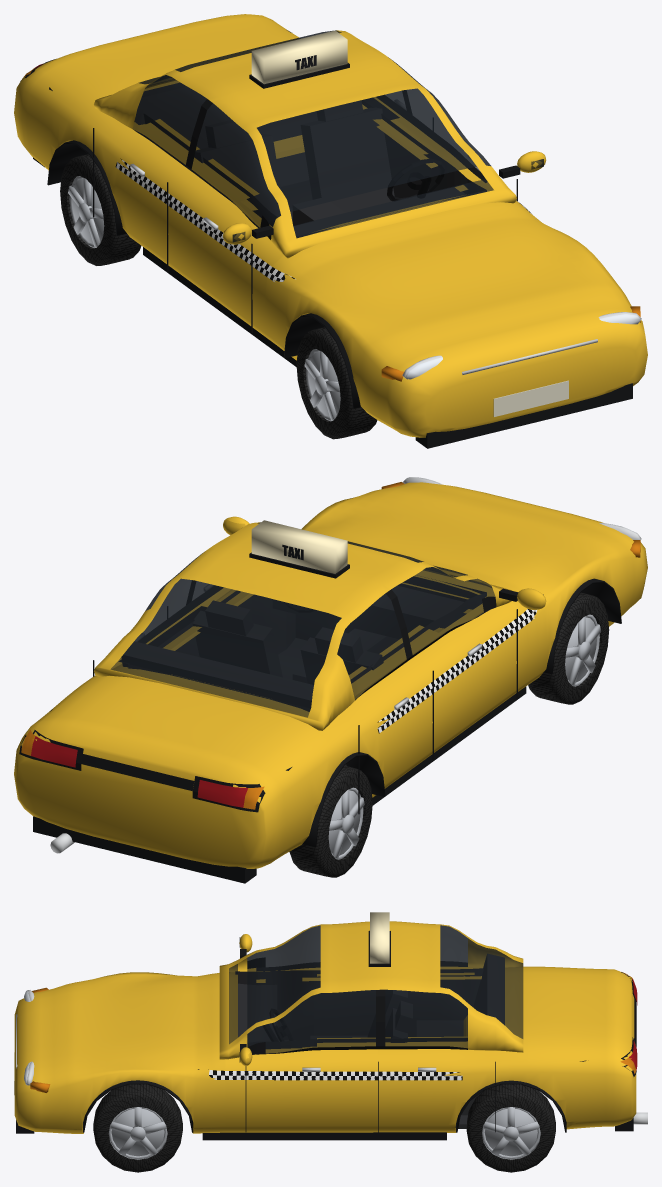
The model's file is car_taxi.glb.
3 renders of one model, top to bottom at view 1: azimuth 30°, elevation 25°; view 2: azimuth 150°, elevation 25°; view 3: azimuth 270°, elevation 25°, orthographic. The views are drawn at different scales.
Visible parts, largest first — view 1: Body, wheel_FR, wheel_RR, Door_L; view 2: Body, wheel_RR, wheel_FR, Door_L; view 3: Body, Door_L, wheel_FL, wheel_RL.
Boxes of the visible parts, x1,y1,x2,y2 form: Body: (14, 14, 647, 448); wheel_FR: (296, 327, 377, 439); wheel_RR: (60, 154, 141, 265); Door_L: (392, 60, 518, 188); Body: (14, 477, 647, 883); wheel_RR: (289, 765, 372, 877); wheel_FR: (528, 592, 609, 704); Door_L: (190, 519, 245, 608); Body: (14, 912, 647, 1140); Door_L: (246, 990, 377, 1129); wheel_FL: (93, 1084, 182, 1172); wheel_RL: (466, 1084, 555, 1172).
Size of the model in its own units: 2.24 by 1.64 by 4.83.
Materials: 15 (2 with a texture image).
